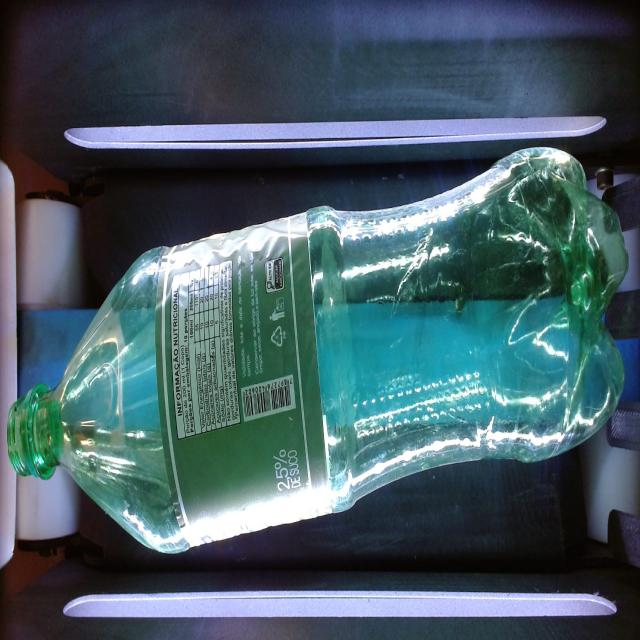bottle: (8, 149, 627, 553)
